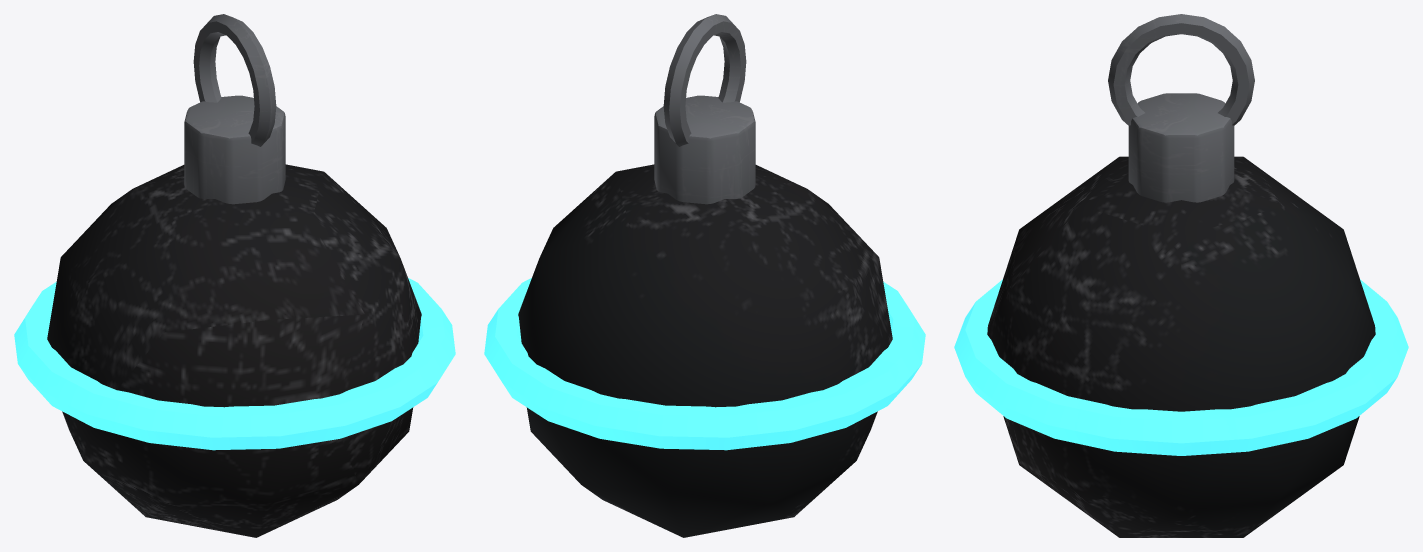
The model's file is emp.glb.
The picture shows the model from 3 angles, left to right: view 1: azimuth 30°, elevation 25°; view 2: azimuth 150°, elevation 25°; view 3: azimuth 270°, elevation 25°; orthographic projection. The views are drawn at different scales.
Visible parts, largest first — view 1: emp; view 2: emp; view 3: emp.
Boxes of the visible parts, box(x1,y1,x2,y2) form: emp: box(14, 14, 455, 537); emp: box(484, 14, 925, 537); emp: box(954, 14, 1408, 537).
Size of the model in its own units: 0.102 by 0.1275 by 0.102.
Materials: 1 (1 with a texture image).
